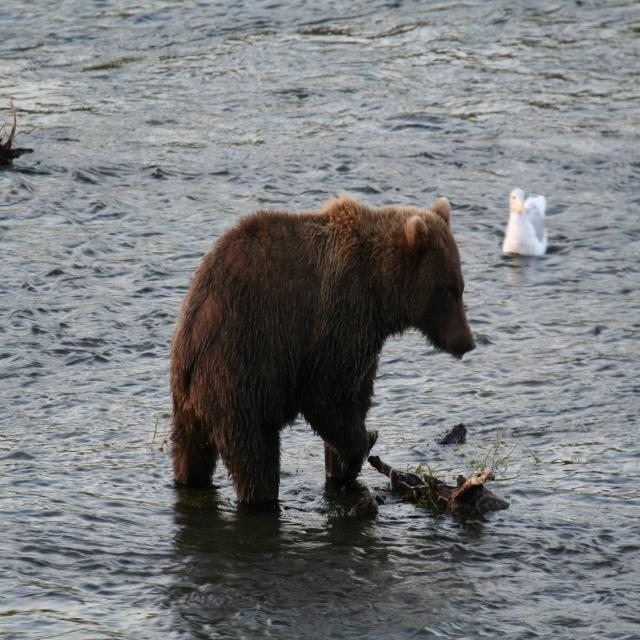bear face: (173, 197, 477, 493)
